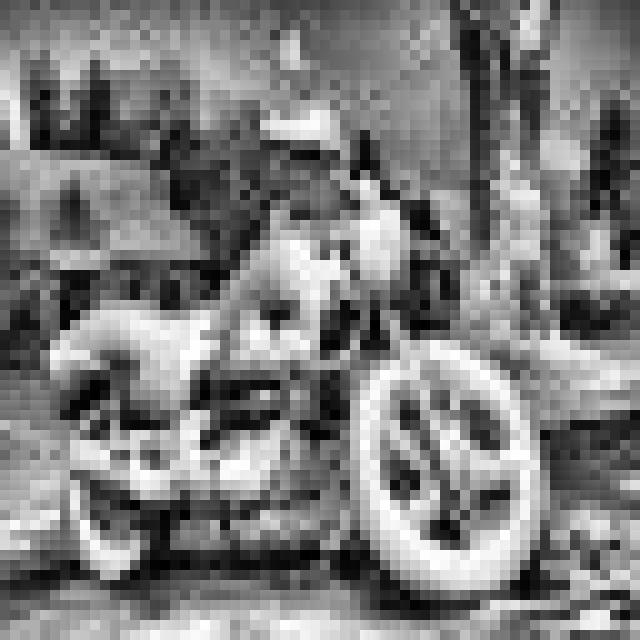mopeds: (30, 166, 575, 607)
